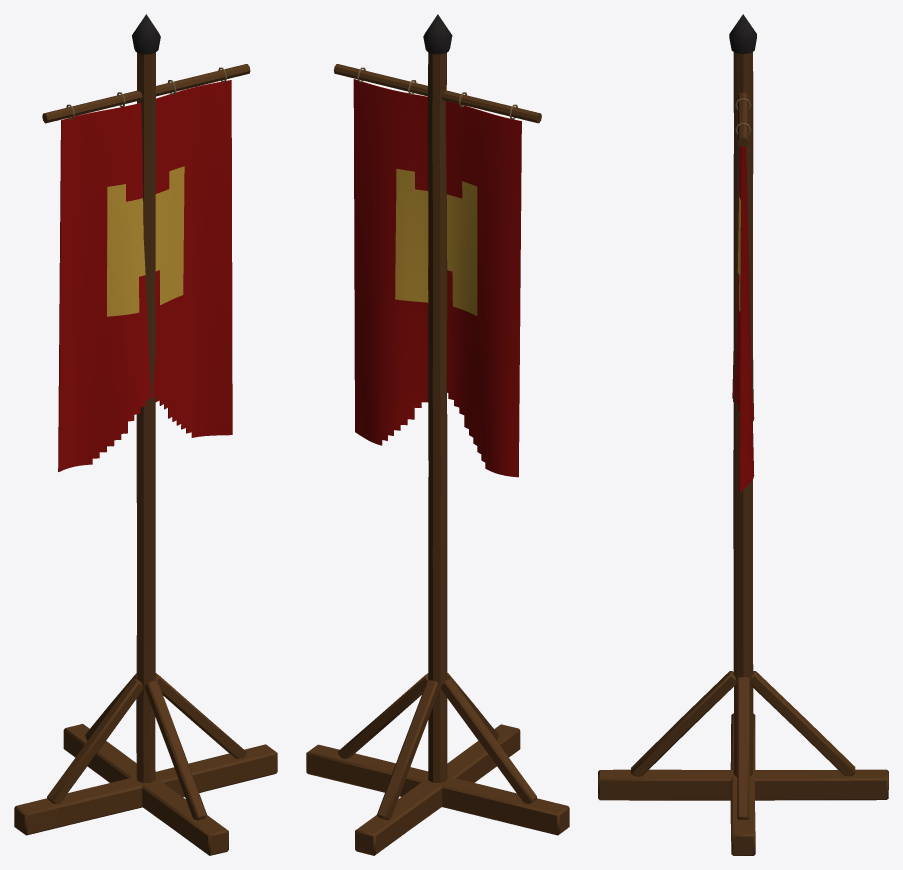
The model's file is banner_rot.glb.
The picture shows the model from 3 angles, left to right: view 1: azimuth 30°, elevation 25°; view 2: azimuth 150°, elevation 25°; view 3: azimuth 270°, elevation 25°; orthographic projection.
Visible parts, largest first — view 1: banner_rot; view 2: banner_rot; view 3: banner_rot.
Part boxes in pixels (x1,y1,x2,y2): banner_rot: (14,14,277,855); banner_rot: (306,14,569,855); banner_rot: (598,14,888,855).
Size of the model in its own units: 1.2 by 3.56 by 1.2.
